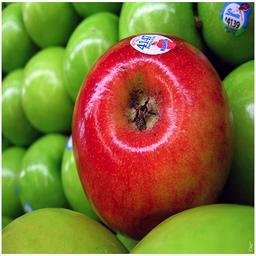apple: (70, 34, 234, 238)
